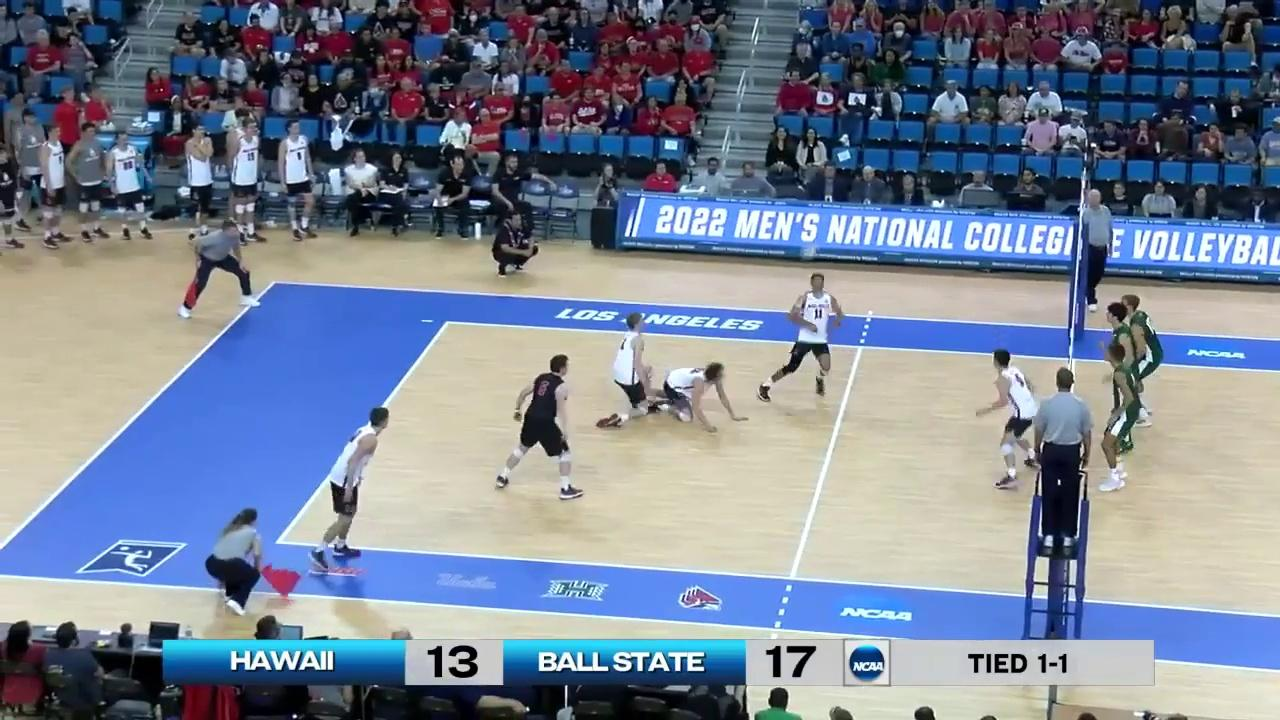player: (494, 358, 581, 499), (318, 406, 387, 566), (762, 277, 842, 405), (981, 350, 1038, 488), (650, 363, 748, 431), (1099, 344, 1141, 494), (1119, 295, 1165, 427), (1105, 302, 1140, 460), (606, 316, 653, 431)
refree: (1031, 364, 1097, 552), (206, 509, 291, 614), (183, 217, 259, 316), (1079, 189, 1113, 314)
